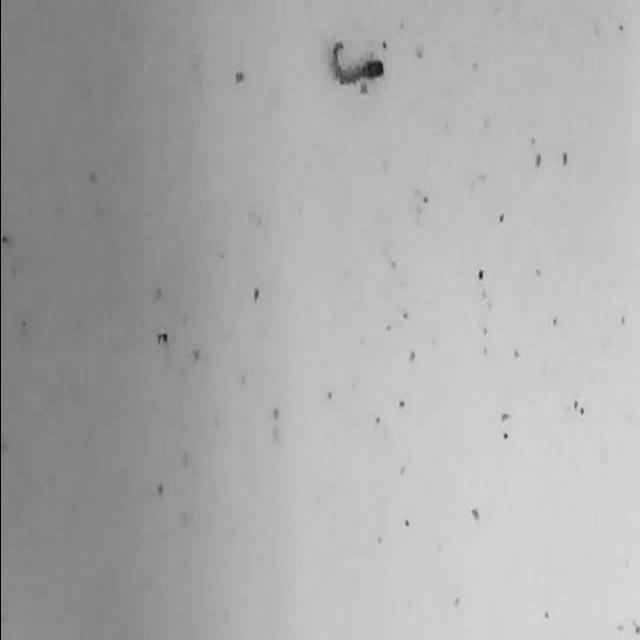larvas: (328, 36, 383, 84)
